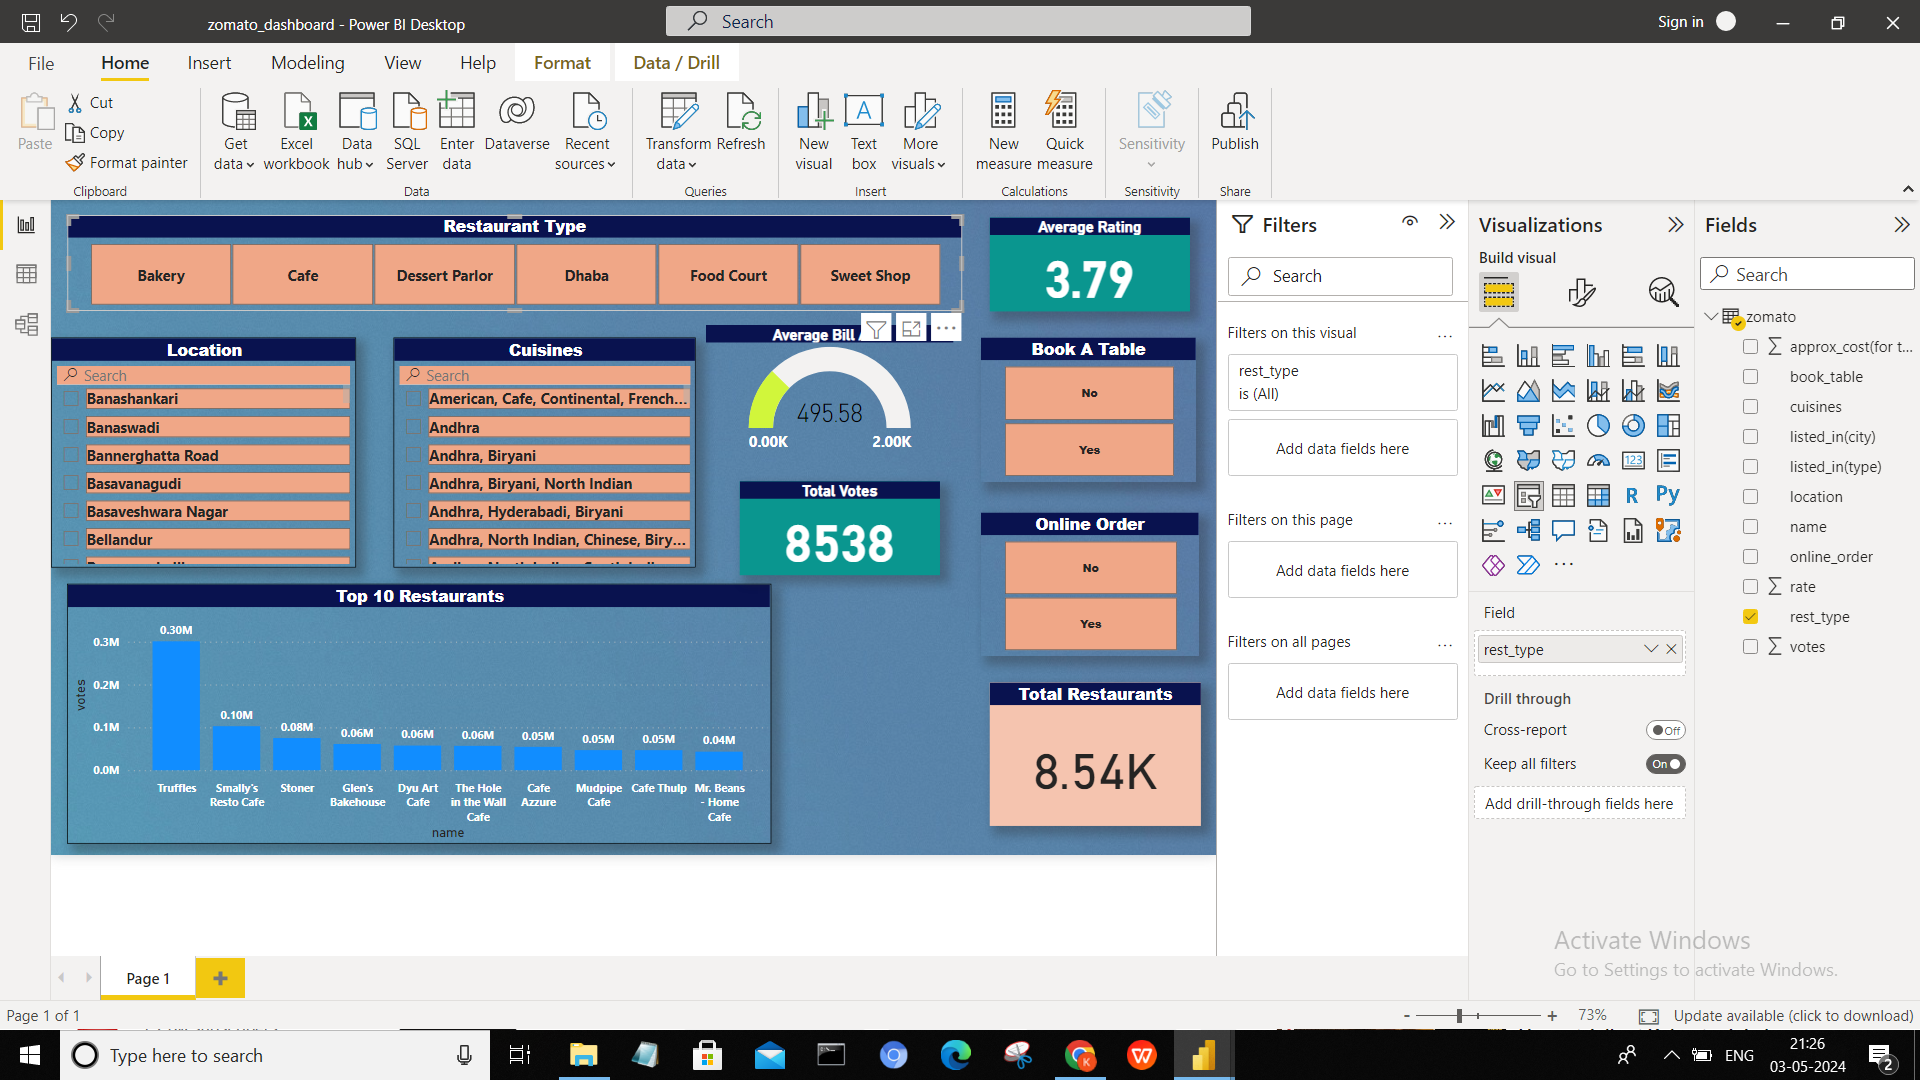

Layout of this report page (visuals, bound fields, positions):
{"tool":"powerbi","page":{"name":"Page 1","canvas":[1280,720],"ordinal":0},"visuals":[{"type":"slicer","title":"Restaurant Type","fields":{"Values":["zomato.rest_type"]},"box":[17.9,16.5,983.3,105.8],"z":0},{"type":"slicer","title":"Book A Table","fields":{"Values":["zomato.book_table"]},"box":[1021.8,151.1,236.2,159.3],"z":1},{"type":"slicer","title":"Online Order","fields":{"Values":["zomato.online_order"]},"box":[1021.8,343.3,239,157.9],"z":2},{"type":"slicer","title":"Location","fields":{"Values":["zomato.location"]},"box":[0,151.1,335.1,252.7],"z":3},{"type":"slicer","title":"Cuisines","fields":{"Values":["zomato.cuisines"]},"box":[376.3,151.1,332.4,252.7],"z":4},{"type":"gauge","title":"Average Bill Amt","fields":{"Y":["Avg(zomato.approx_cost(for two people))"]},"box":[719.7,137.3,271.9,149.7],"z":5},{"type":"columnChart","title":"Top 10 Restaurants","fields":{"Category":["zomato.name"],"Y":["Sum(zomato.votes)"]},"box":[17.9,421.6,773.2,285.7],"z":6},{"type":"card","title":"Total Votes","fields":{"Values":["CountNonNull(zomato.votes)"]},"box":[756.7,309,219.7,103],"z":7},{"type":"card","title":"Average Rating","fields":{"Values":["Avg(zomato.rate)"]},"box":[1031.4,19.2,219.7,103],"z":8},{"type":"card","title":"Total Restaurants","fields":{"Values":["CountNonNull(zomato.name)"]},"box":[1031.4,530.1,232.1,157.9],"z":9}]}

Visuals, with their boxes on the page's 1280x720 design canvas (x1, y1, x2, y2). These are canvas units, not pixel positions in the 1920x1080 screenshot, which may show the page scaled, cropped or inside an application window:
"Restaurant Type" slicer: (x1=18, y1=16, x2=1001, y2=122)
"Book A Table" slicer: (x1=1022, y1=151, x2=1258, y2=310)
"Online Order" slicer: (x1=1022, y1=343, x2=1261, y2=501)
"Location" slicer: (x1=0, y1=151, x2=335, y2=404)
"Cuisines" slicer: (x1=376, y1=151, x2=709, y2=404)
"Average Bill Amt" gauge: (x1=720, y1=137, x2=992, y2=287)
"Top 10 Restaurants" columnChart: (x1=18, y1=422, x2=791, y2=707)
"Total Votes" card: (x1=757, y1=309, x2=976, y2=412)
"Average Rating" card: (x1=1031, y1=19, x2=1251, y2=122)
"Total Restaurants" card: (x1=1031, y1=530, x2=1264, y2=688)
